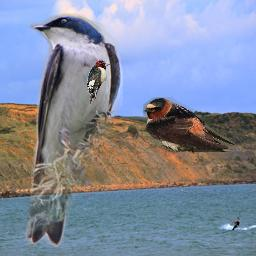Swallow: (22, 13, 123, 247), (143, 97, 238, 153)
Woodpecker: (87, 60, 111, 104)
